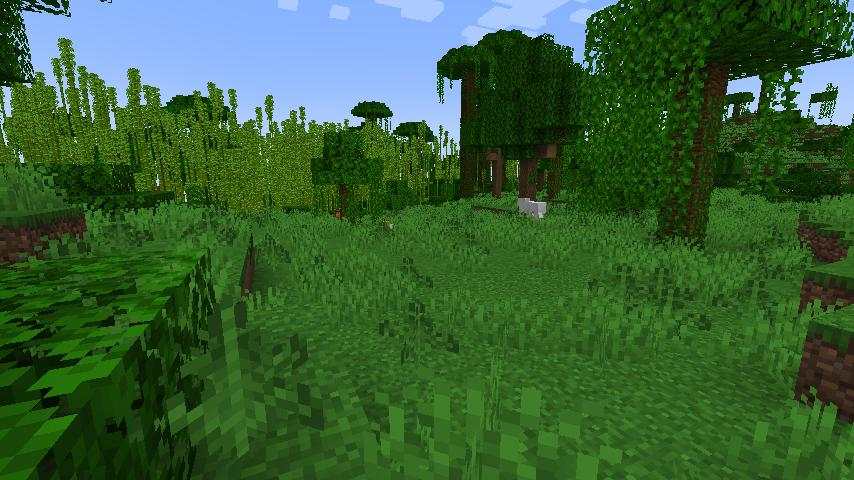sheep: (517, 197, 548, 224)
